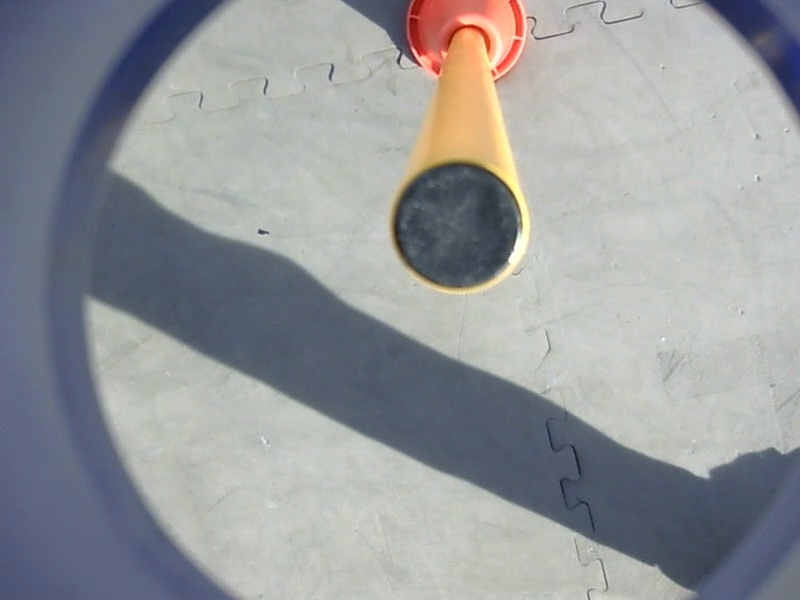tip: (384, 153, 536, 303)
